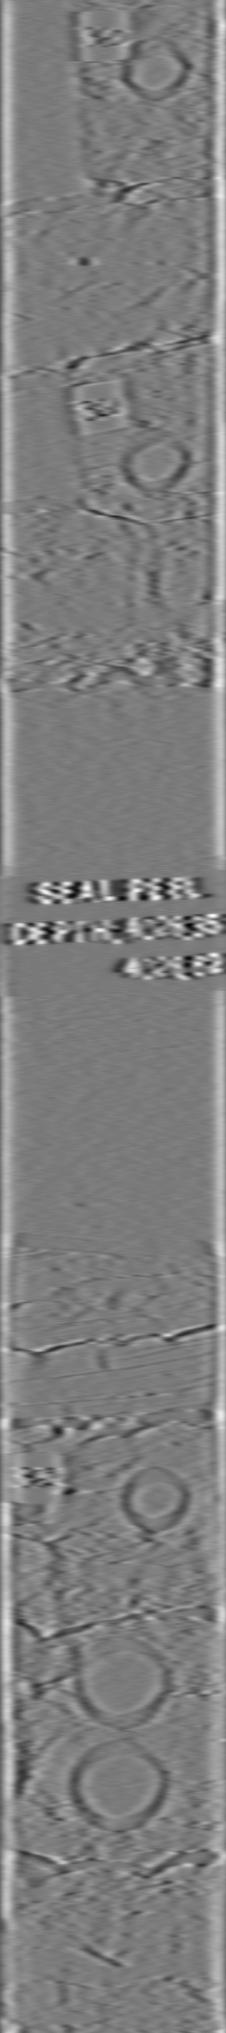hplug: (116, 1461, 194, 1540), (117, 421, 194, 500), (116, 32, 194, 108)
scal: (69, 1732, 171, 1839), (68, 1632, 174, 1732)
vplug: (9, 360, 92, 511)
